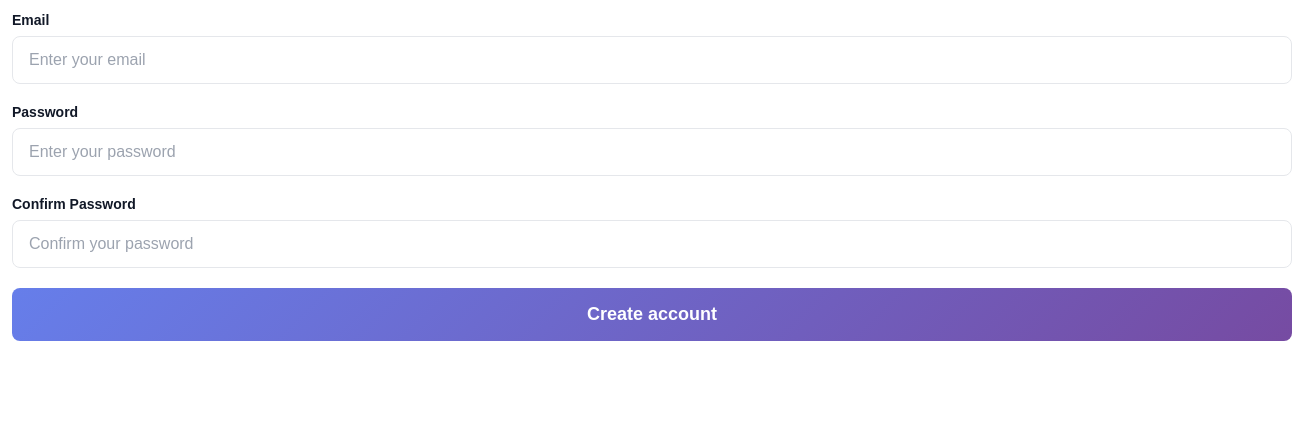
it: auth flow › shows an error for duplicate signup email
Step 1. Type "dup@example.com" into the field with test id "auth-signup-email" → [652, 60], box [12,36,1292,84]
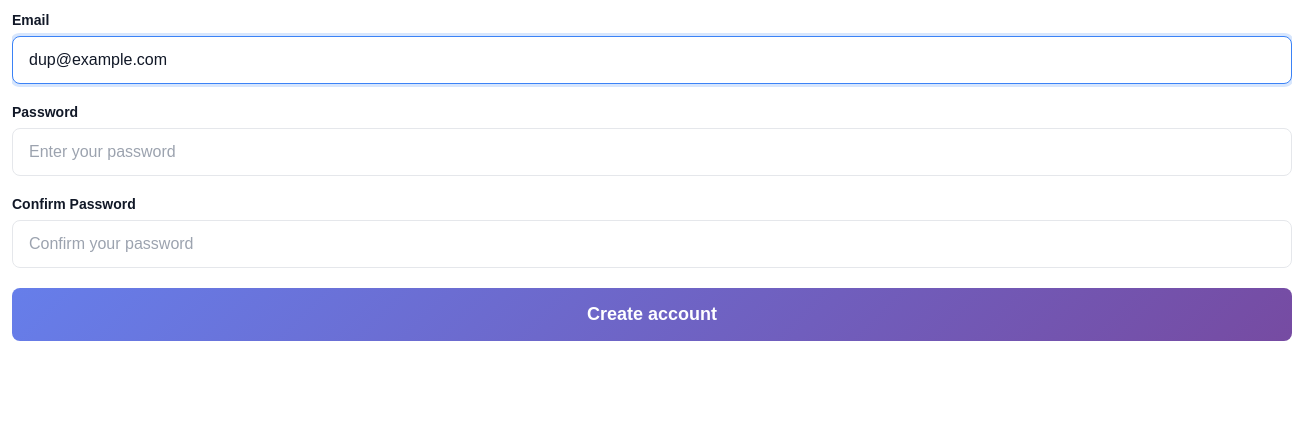
Step 2. Type "password" into the password field with test id "auth-signup-password" → [652, 152], box [12,128,1292,176]
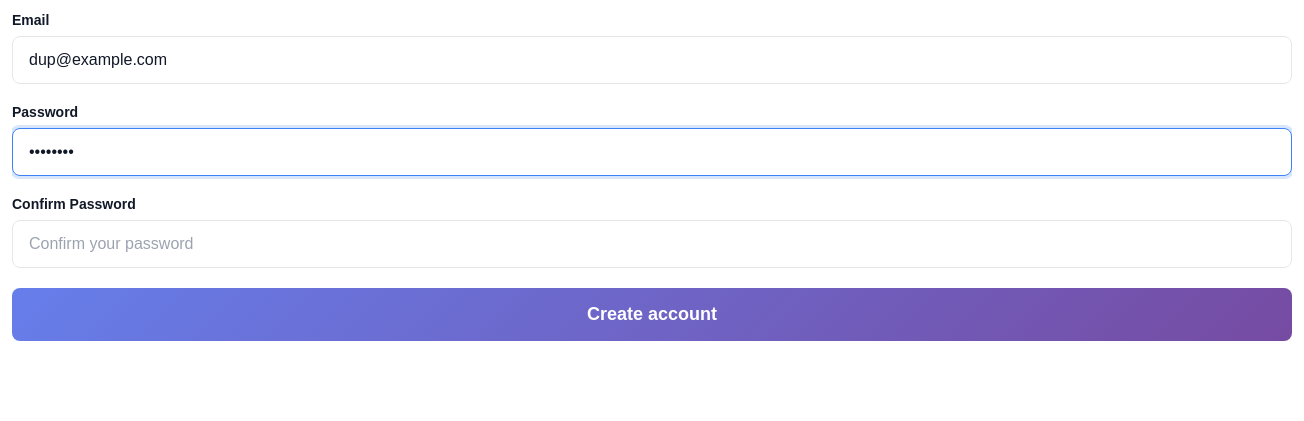
Step 3. Type "password" into the password field with test id "auth-signup-confirm-password" → [652, 244], box [12,220,1292,268]
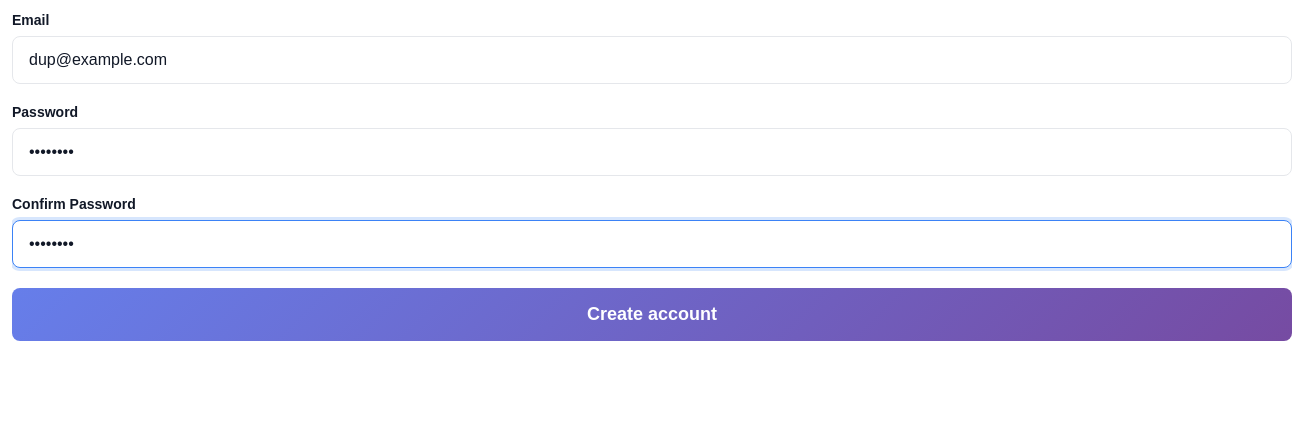
Step 4. Click the button with test id "auth-signup-submit" → [652, 314], box [12,288,1292,341]
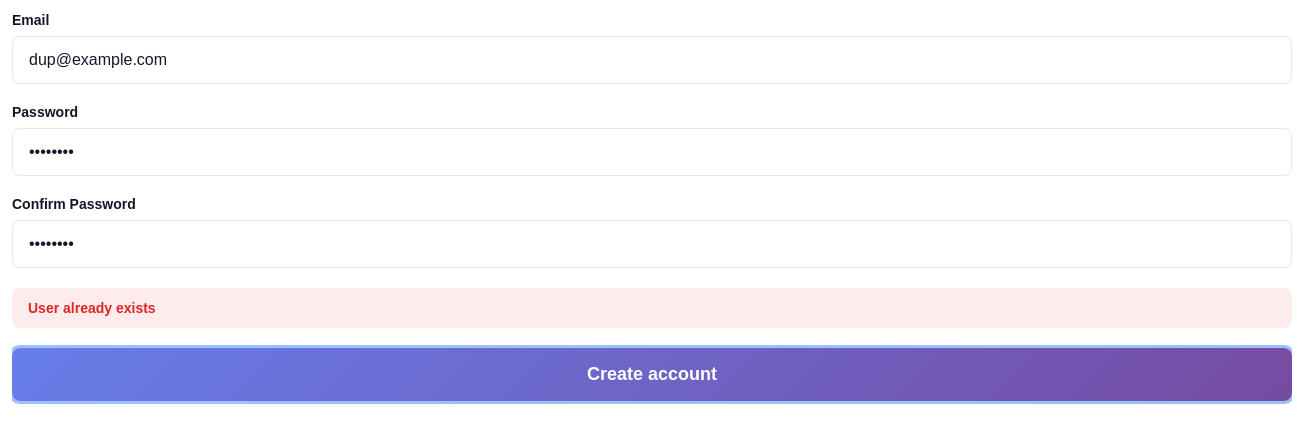
Result: the text "User already exists" is shown at [12,288,1292,328]
